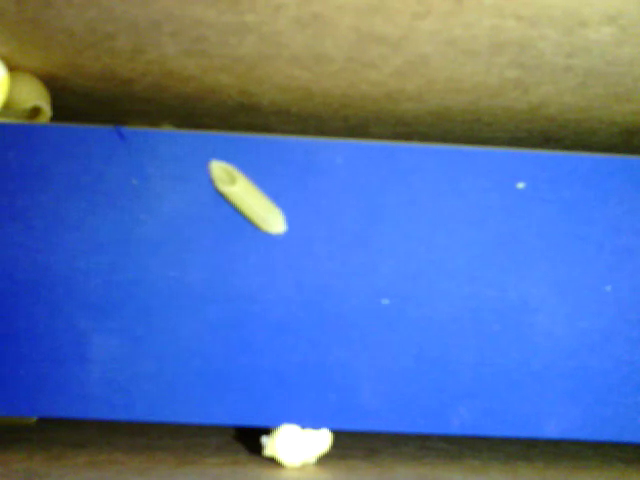penne: (208, 157, 290, 237)
shell: (3, 68, 53, 127)
